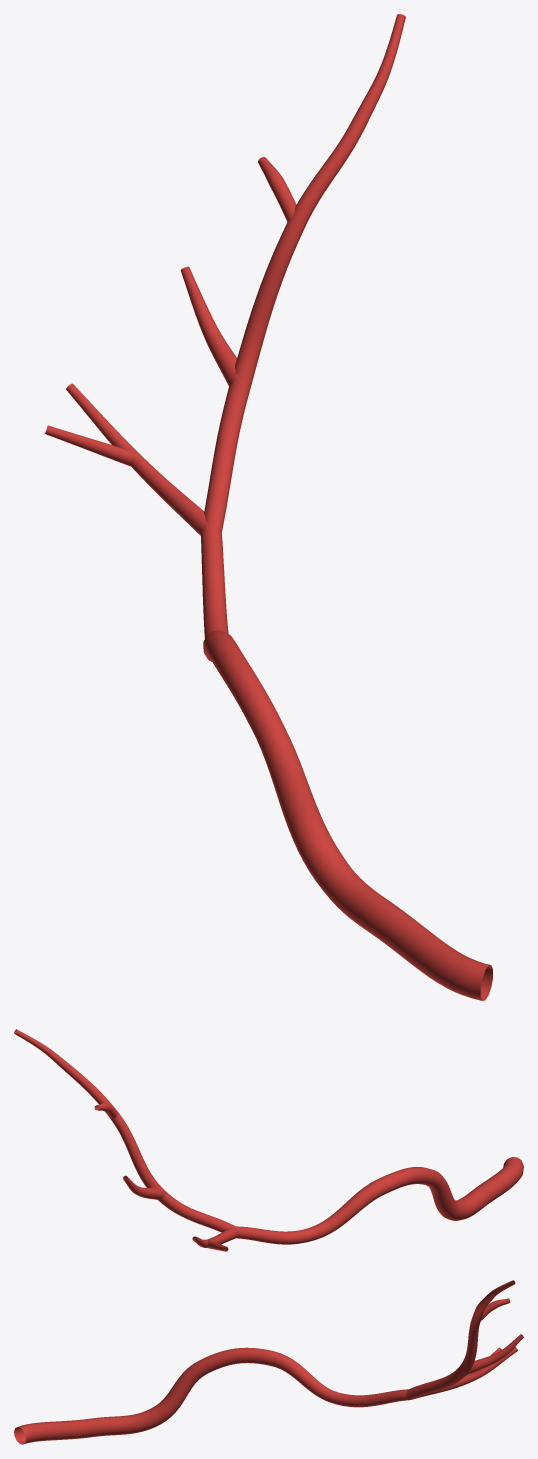
The picture shows the model from 3 angles, top to bottom: view 1: azimuth 30°, elevation 25°; view 2: azimuth 150°, elevation 25°; view 3: azimuth 270°, elevation 25°; orthographic projection. The views are drawn at different scales.
Parts seen in each view (by area): view 1: 阑尾动脉; view 2: 阑尾动脉; view 3: 阑尾动脉.
Boxes of the visible parts, box(x1,y1,x2,y2) form: 阑尾动脉: box(45, 14, 492, 1000); 阑尾动脉: box(14, 1029, 523, 1251); 阑尾动脉: box(14, 1280, 523, 1444).
Size of the model in its own units: 0.0499 by 0.0548 by 0.0963.
